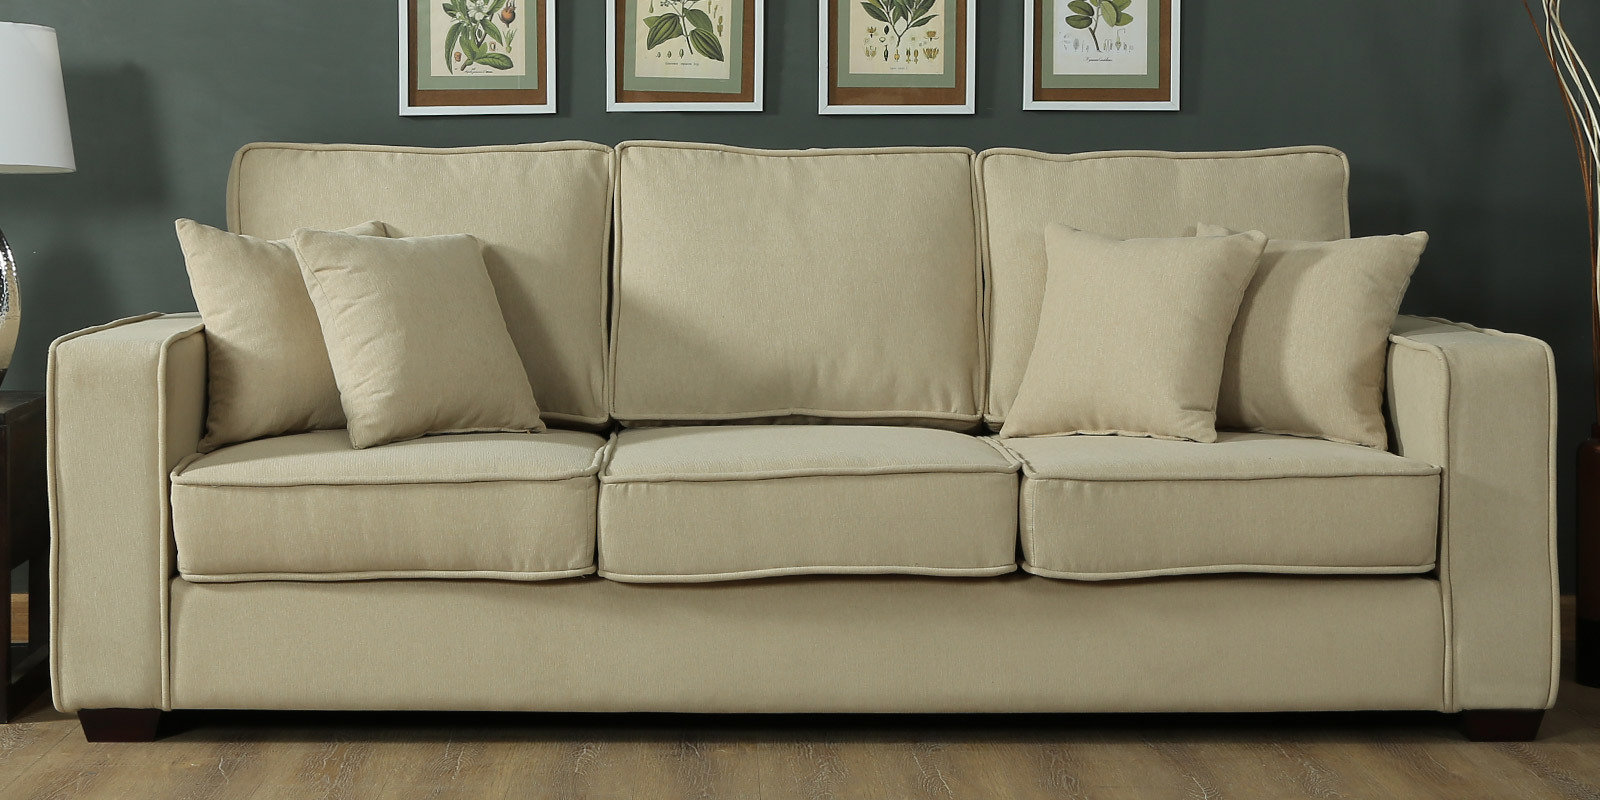Hugo Three Seater Sofa in Beige Colour by CasaCraft: (37, 131, 1582, 753)
